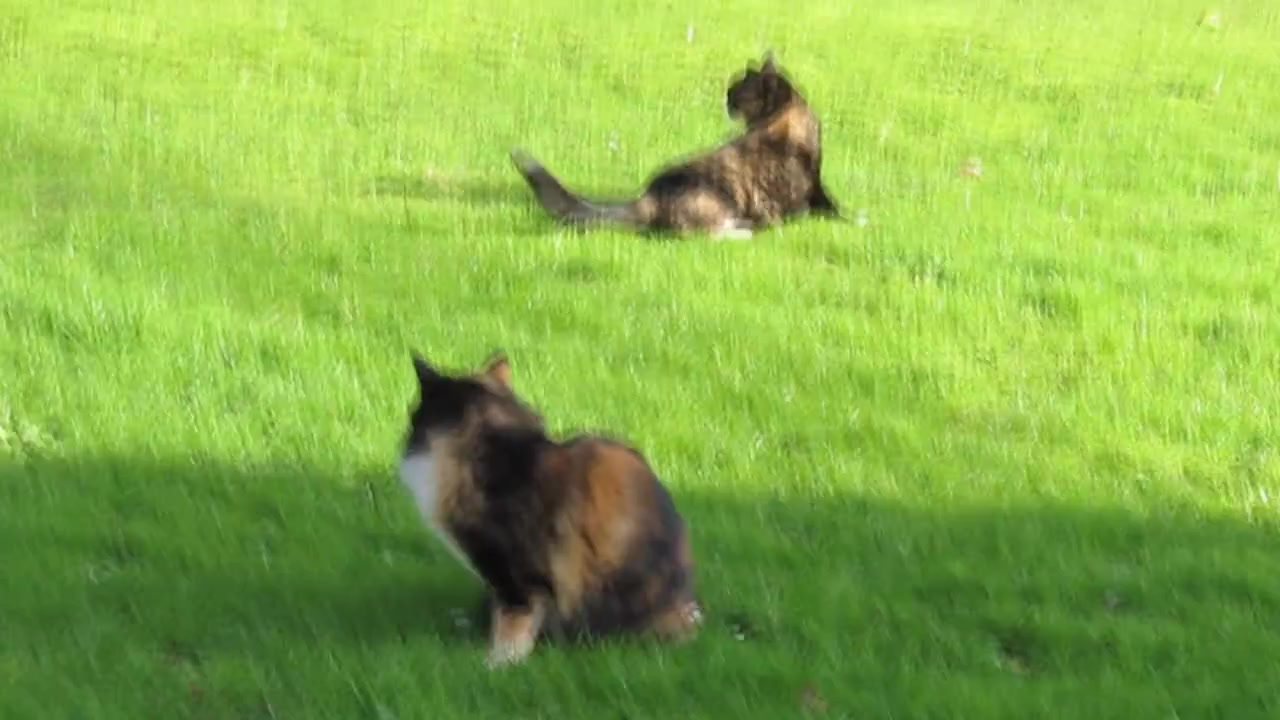cat: (383, 349, 703, 666)
